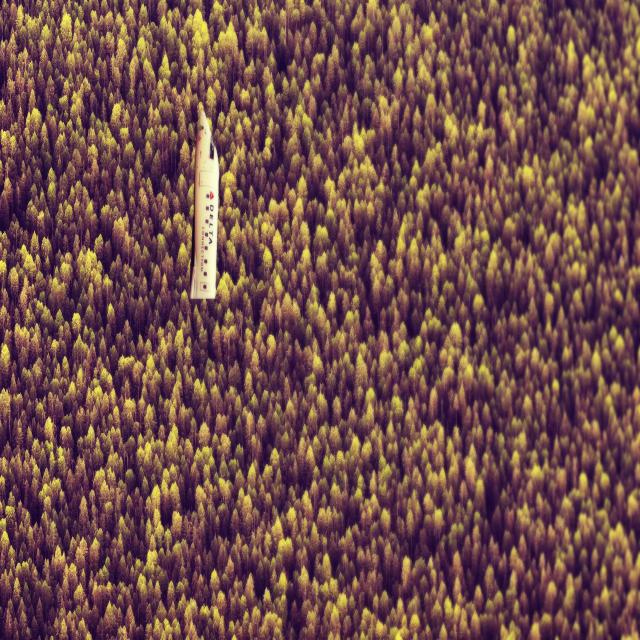airplane: (189, 106, 219, 300)
